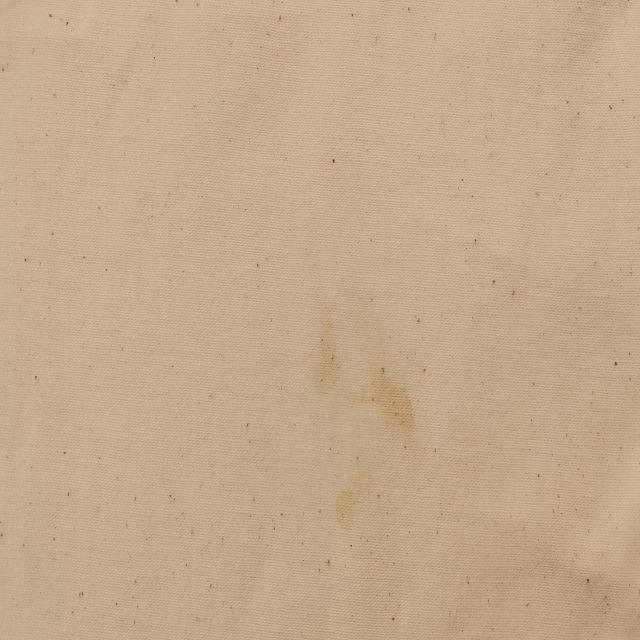taaaches: (358, 349, 419, 458), (310, 323, 344, 403), (331, 482, 362, 537)
